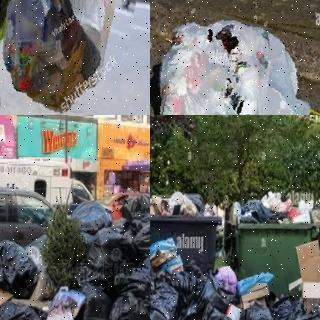Garbage: (150, 10, 320, 115), (0, 0, 145, 115), (85, 226, 132, 272), (0, 239, 37, 297), (112, 282, 150, 320), (272, 296, 320, 320), (174, 302, 234, 320), (0, 302, 50, 320), (150, 300, 174, 320)
